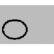no answer: (0, 17, 30, 43)
